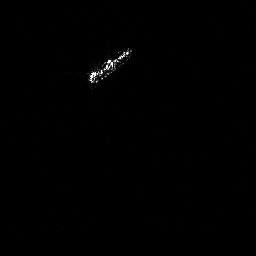ship: (83, 45, 136, 87)
